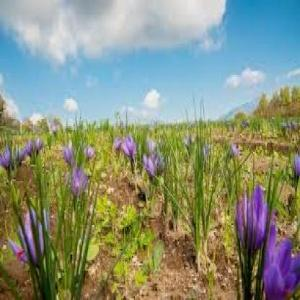Saffron: (260, 226, 300, 300), (11, 208, 53, 267), (235, 186, 271, 251), (144, 155, 160, 177), (122, 137, 136, 157)
